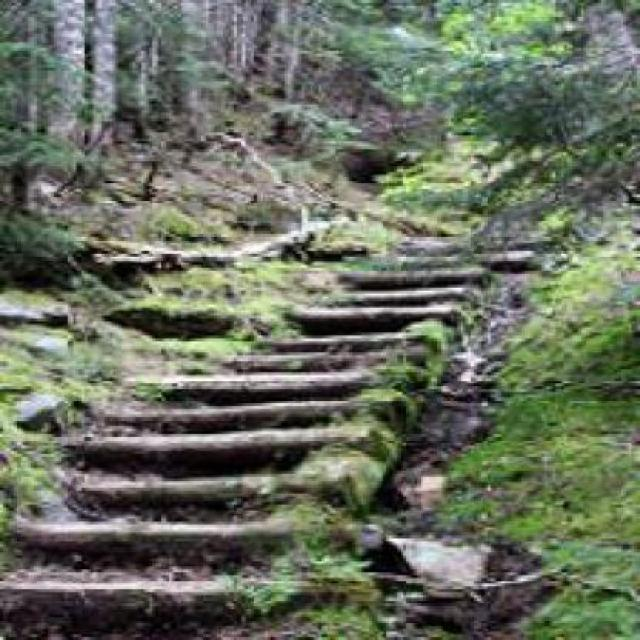stair: (43, 308, 314, 634)
